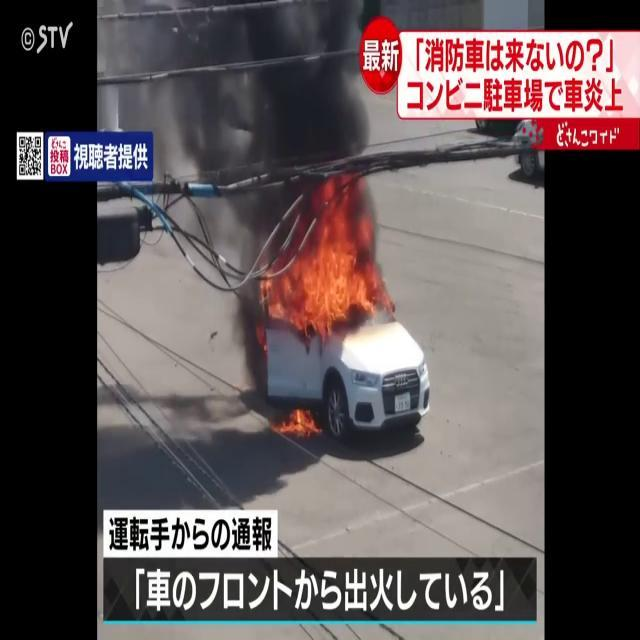Fire: (270, 183, 386, 341)
Smoke: (99, 1, 384, 232)
